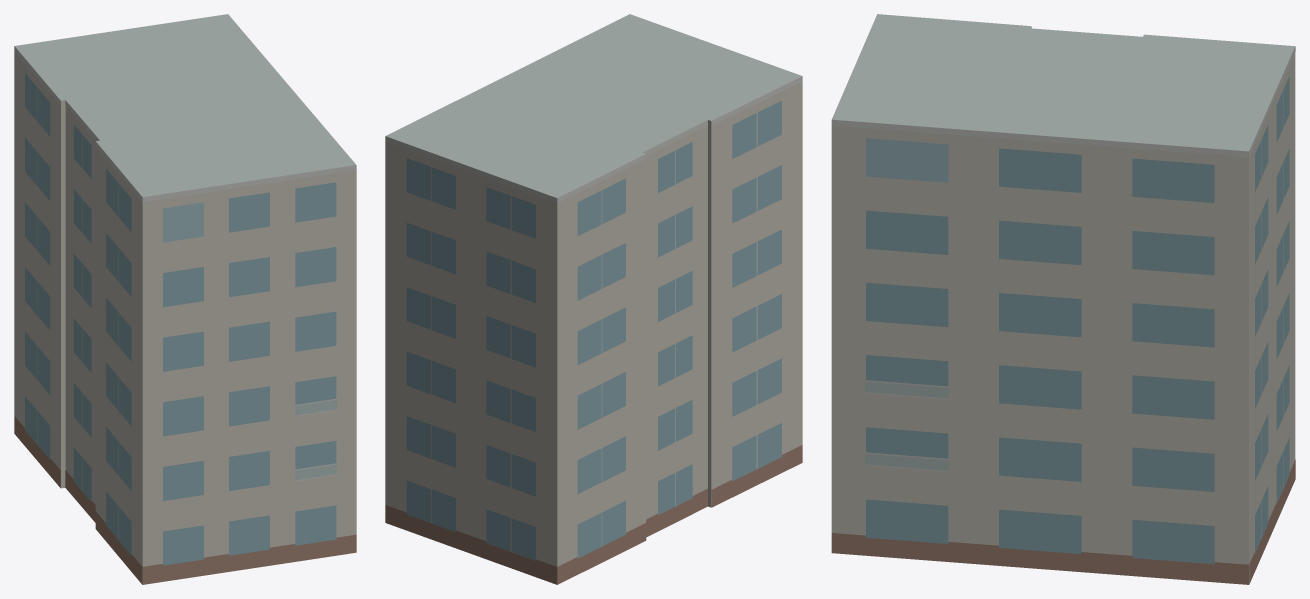
File: survey-upis-32754445.glb
3 views of the same model, side by side, from view 1: azimuth 30°, elevation 25°; view 2: azimuth 150°, elevation 25°; view 3: azimuth 270°, elevation 25° (orthographic). The views are drawn at different scales.
Parts seen in each view (by area): view 1: survey-upis-32754445.tmp; view 2: survey-upis-32754445.tmp; view 3: survey-upis-32754445.tmp.
Part boxes in pixels (<box>): survey-upis-32754445.tmp: <box>14,14,356,584</box>; survey-upis-32754445.tmp: <box>385,14,802,584</box>; survey-upis-32754445.tmp: <box>831,14,1295,584</box>.
Bounding box in the file's own units: 12.45 × 18.3 × 17.75.
